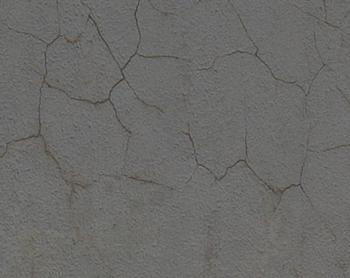fissura: (1, 0, 350, 211)
